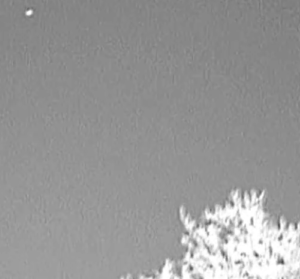Target: (26, 10, 33, 16)
